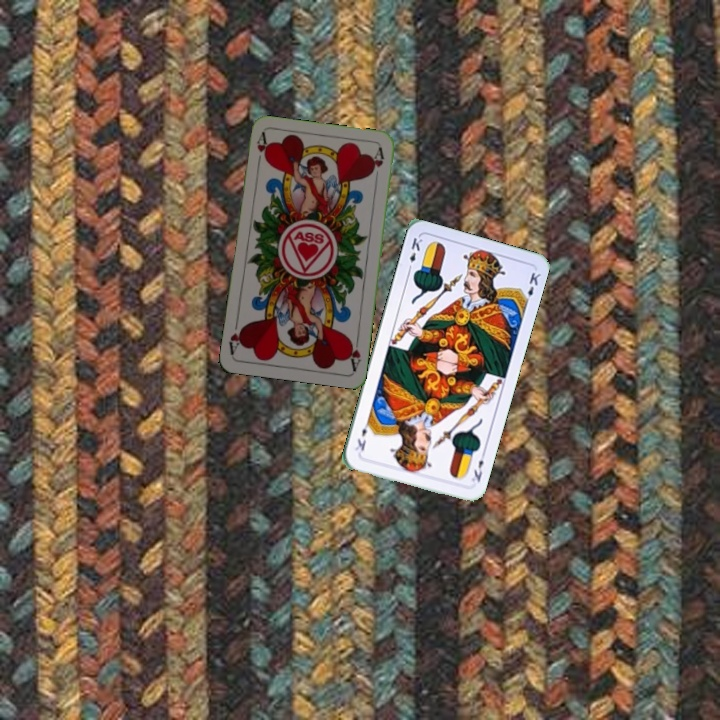EK: (404, 234, 425, 274), (468, 449, 488, 484)
HA: (344, 332, 363, 373), (253, 129, 270, 170)
